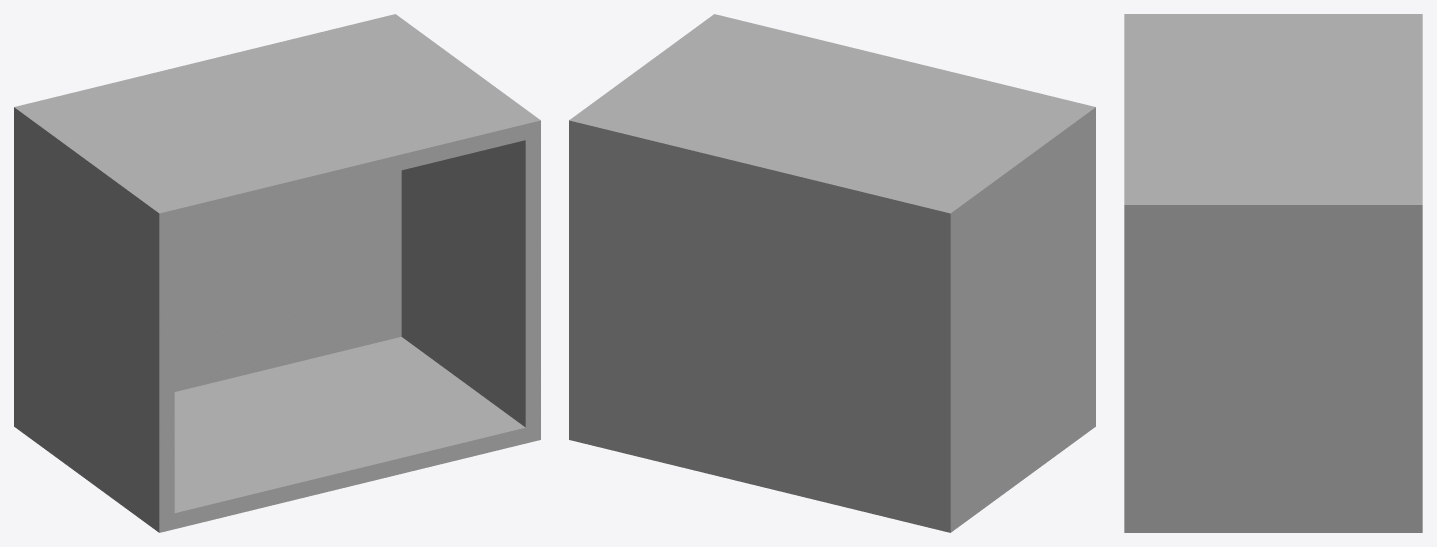
The picture shows the model from 3 angles, left to right: view 1: azimuth 30°, elevation 25°; view 2: azimuth 150°, elevation 25°; view 3: azimuth 270°, elevation 25°; orthographic projection. The views are drawn at different scales.
Parts seen in each view (by area): view 1: Box015; view 2: Box015; view 3: Box015.
Boxes of the visible parts, left/top/right/bottom form: Box015: left=14, top=14, right=540, bottom=532; Box015: left=569, top=14, right=1095, bottom=532; Box015: left=1124, top=14, right=1422, bottom=532.
Bounding box in the file's own units: 0.5 × 0.4 × 0.33.
Materials: 1 (1 with a texture image).
